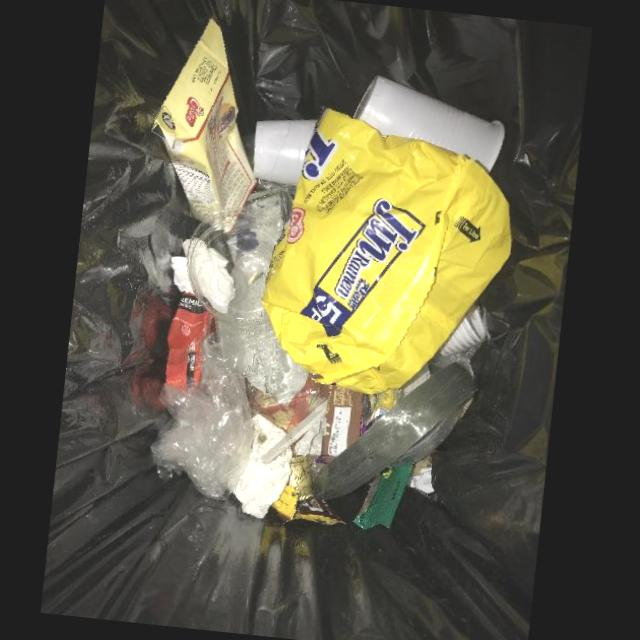bao_bi_thuc_pham: (261, 108, 511, 395), (165, 292, 216, 386), (314, 385, 372, 464), (271, 485, 345, 525)
giay: (232, 414, 292, 519)
hop_nhua: (353, 78, 505, 174), (253, 119, 317, 187)
tui_ni_long: (150, 321, 289, 502)
vo_hop_sua: (150, 18, 256, 234)
